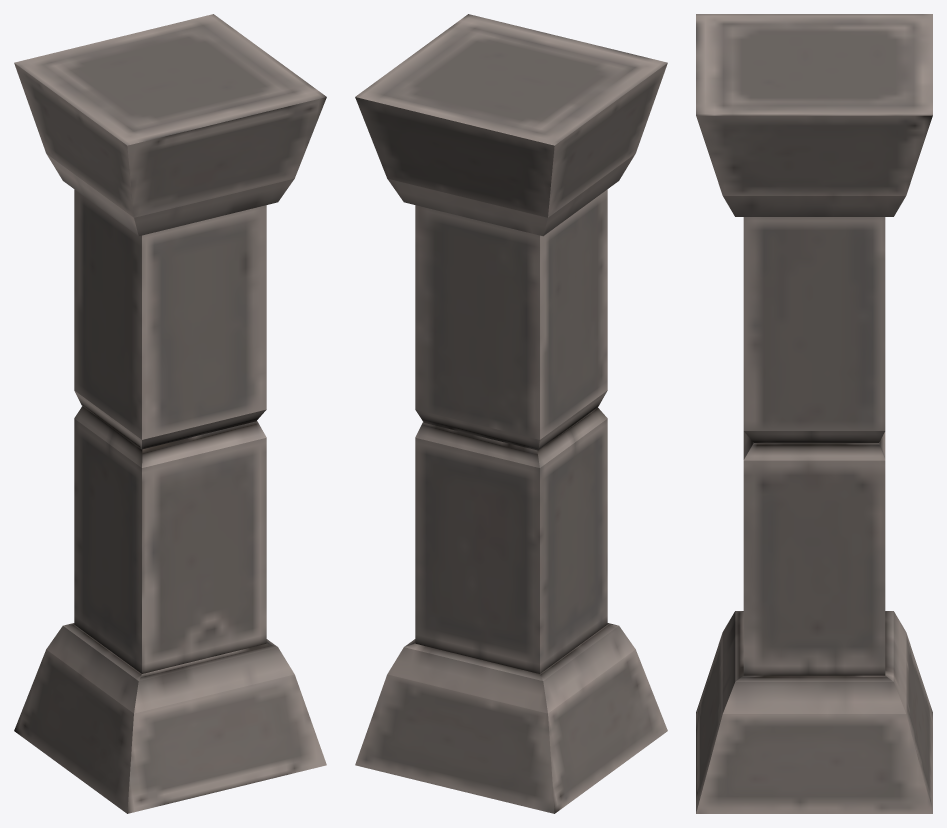
Rendered from small_pillar.fbx.
3 renders of one model, left to right at view 1: azimuth 30°, elevation 25°; view 2: azimuth 150°, elevation 25°; view 3: azimuth 270°, elevation 25°, orthographic. The views are drawn at different scales.
Visible parts, largest first — view 1: Pillar.001; view 2: Pillar.001; view 3: Pillar.001.
Part boxes in pixels (x1,y1,x2,y2): Pillar.001: [14, 14, 326, 813]; Pillar.001: [355, 14, 667, 813]; Pillar.001: [696, 14, 932, 813].
Size of the model in its own units: 375 by 1199 by 369.
1 material, 1 textured.
